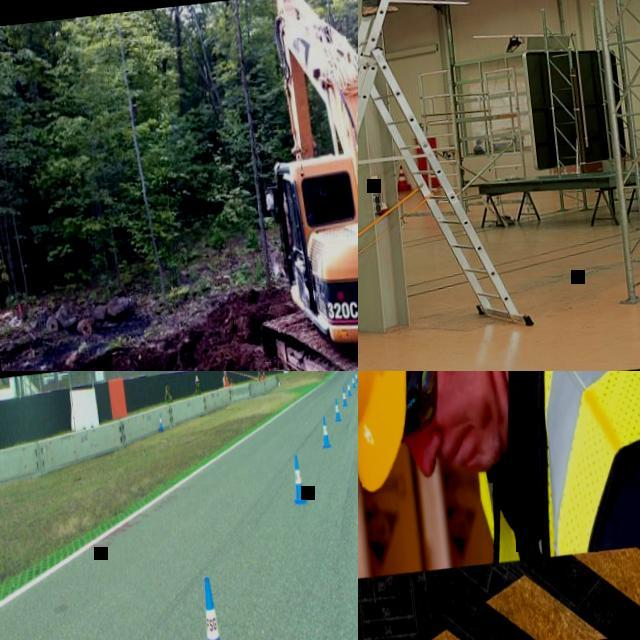vest: (450, 371, 640, 561), (224, 376, 228, 388), (262, 375, 265, 380), (230, 382, 233, 387)
